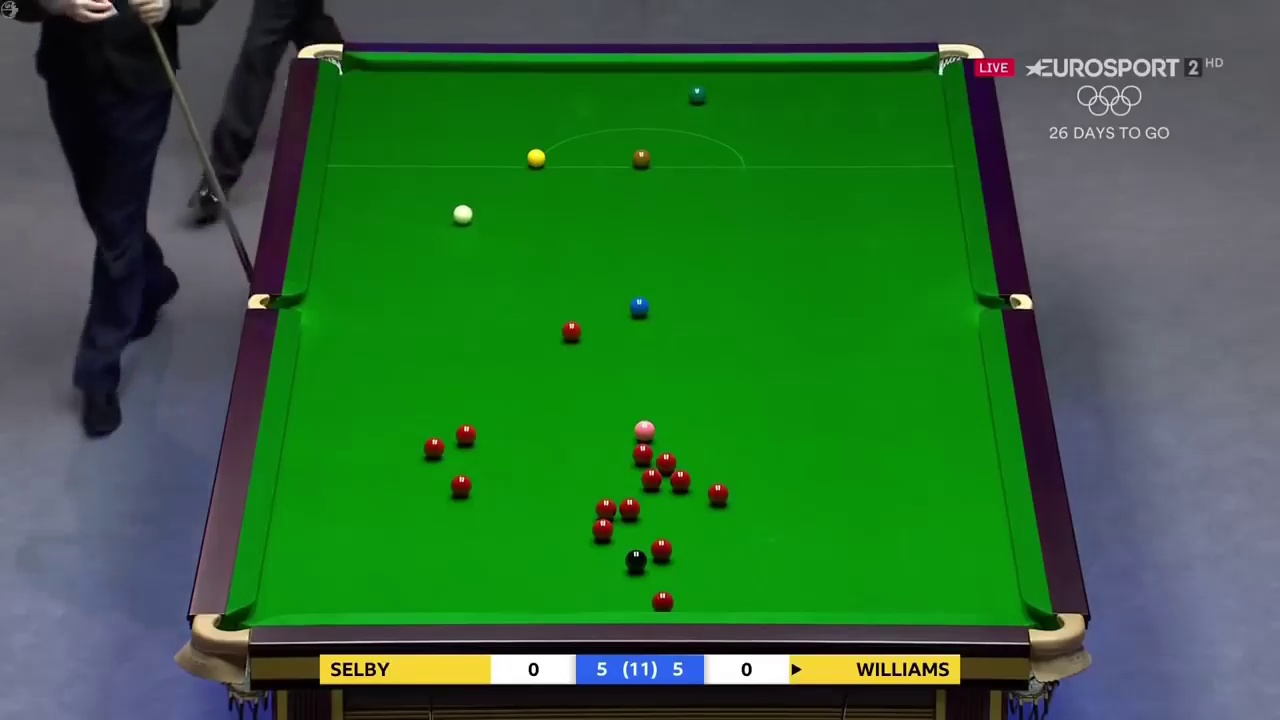ball: (590, 516, 615, 542), (450, 202, 473, 227), (708, 482, 730, 507), (649, 539, 672, 562), (616, 498, 641, 519), (524, 148, 546, 171), (631, 149, 653, 171), (560, 320, 583, 341), (456, 424, 477, 447), (669, 468, 690, 491), (640, 467, 663, 488), (423, 436, 444, 458), (629, 297, 652, 317), (449, 477, 472, 497), (687, 85, 708, 106), (635, 420, 653, 441)
